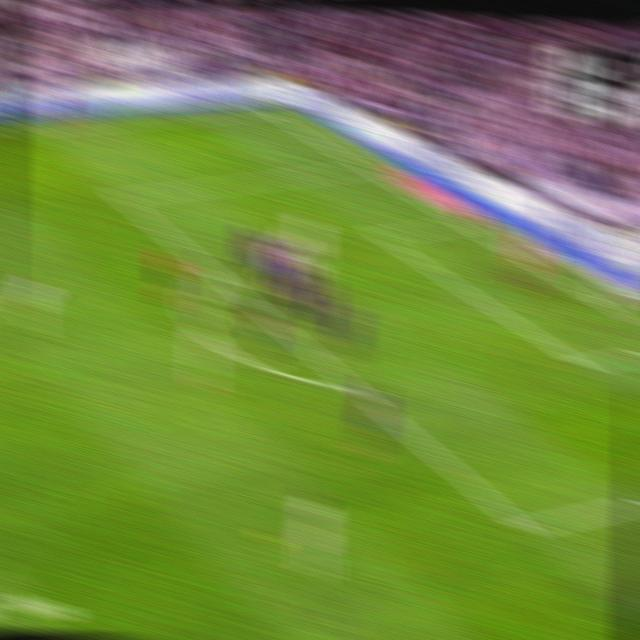bigarea_bottom_inner: (508, 508, 538, 547)
bigarea_top_inner: (108, 182, 134, 210)
bigarea_top_outter: (352, 156, 376, 178)
bottom_arc_area_intersection: (338, 373, 365, 397)
corner: (254, 101, 280, 119)
smallarea_bottom_inner: (569, 350, 596, 379)
smallarea_top_inner: (368, 222, 396, 248)
top_arc_area_intersection: (201, 260, 228, 285)
